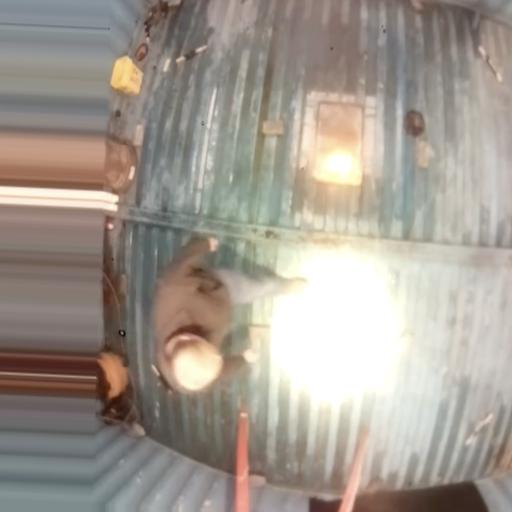Fire: (323, 149, 356, 182)
